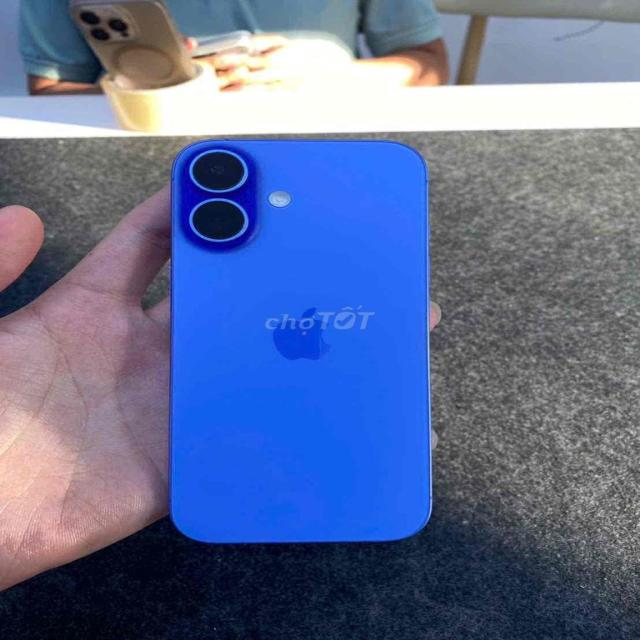gen_16: (169, 140, 431, 542)
